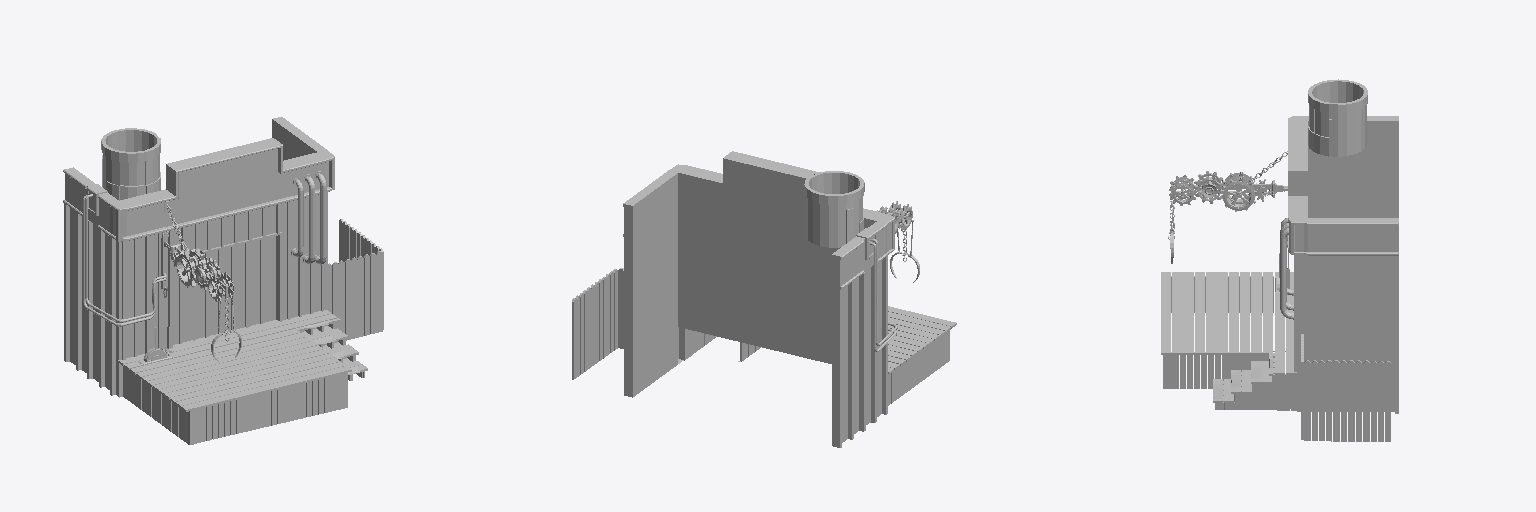
Rendered from FreightDepoAlt.obj.
The picture shows the model from 3 angles: view 1: azimuth 30°, elevation 25°; view 2: azimuth 150°, elevation 25°; view 3: azimuth 270°, elevation 25°; orthographic projection.
Parts seen in each view (by area): view 1: BuildingMain, PorchUpper, PorchLower, Fence, Reservoir, pCube260, LargePipes, ThinPipes, pCube239, Gear3, WallHanging; view 2: BuildingMain, Fence, Reservoir, PorchUpper, PorchLower, ThinPipes, pCube239; view 3: BuildingMain, PorchUpper, Fence, Reservoir, pCube239, PorchLower, pCube260, Gear3, LargePipes, Gear4, Gear5.
Boxes of the visible parts, x1,y1,x2,y2 form: BuildingMain: [63, 117, 362, 397]; PorchUpper: [136, 333, 351, 411]; PorchLower: [125, 368, 347, 444]; Fence: [328, 219, 383, 340]; Reservoir: [101, 128, 160, 200]; pCube260: [118, 310, 340, 374]; LargePipes: [291, 171, 326, 264]; ThinPipes: [83, 194, 166, 326]; pCube239: [307, 323, 367, 377]; Gear3: [176, 248, 207, 287]; WallHanging: [161, 231, 173, 353]; BuildingMain: [623, 151, 894, 447]; Fence: [572, 268, 623, 379]; Reservoir: [804, 171, 864, 247]; PorchUpper: [888, 306, 956, 361]; PorchLower: [740, 330, 949, 405]; ThinPipes: [869, 238, 897, 351]; pCube239: [684, 329, 716, 360]; BuildingMain: [1223, 116, 1398, 413]; PorchUpper: [1161, 272, 1261, 354]; Fence: [1301, 334, 1390, 441]; Reservoir: [1308, 79, 1367, 156]; pCube239: [1213, 361, 1296, 410]; PorchLower: [1163, 276, 1273, 388]; pCube260: [1263, 272, 1296, 375]; Gear3: [1220, 172, 1256, 211]; LargePipes: [1280, 218, 1293, 319]; Gear4: [1194, 171, 1223, 203]; Gear5: [1169, 175, 1196, 205].
Size of the model in its own units: 21.95 by 17.46 by 16.1.